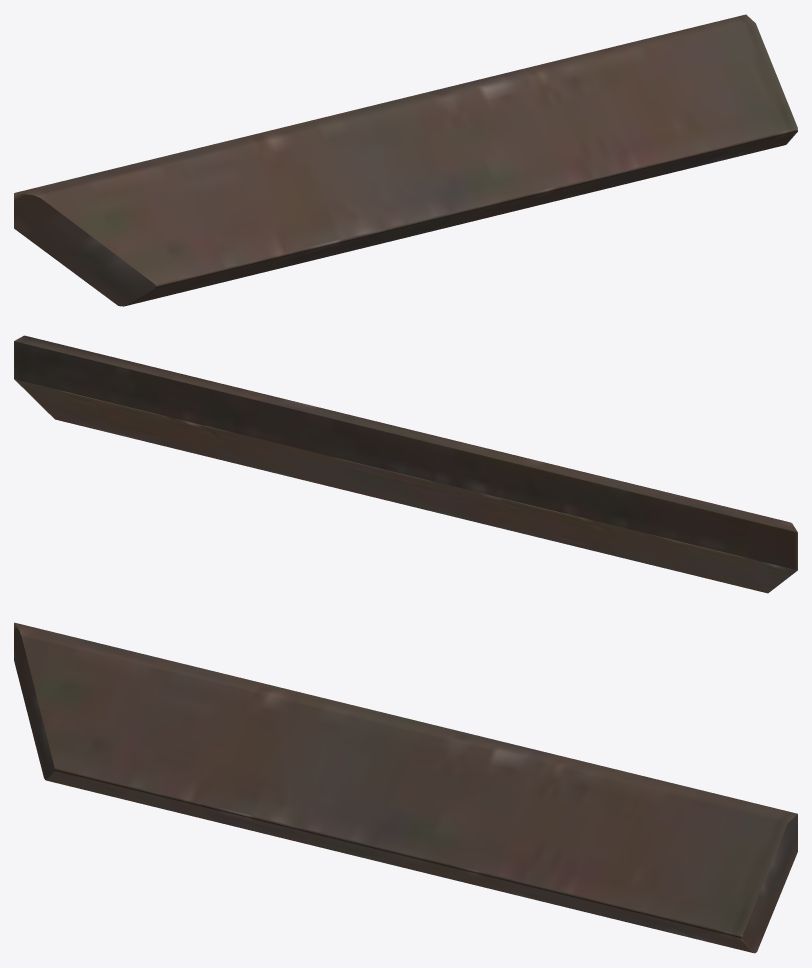
Rendered from roof.metal.corner.90.concave.l.top.line.glb.
3 renders of one model, top to bottom at view 1: azimuth 30°, elevation 25°; view 2: azimuth 150°, elevation 25°; view 3: azimuth 330°, elevation 25°, orthographic. The views are drawn at different scales.
Visible parts, largest first — view 1: model; view 2: model; view 3: model.
Boxes of the visible parts, x1,y1,x2,y2 form: model: [14, 14, 797, 306]; model: [14, 335, 797, 593]; model: [14, 622, 797, 953].
Bounding box in the file's own units: 3 × 0.3961 × 0.3679.
Materials: 1 (1 with a texture image).
